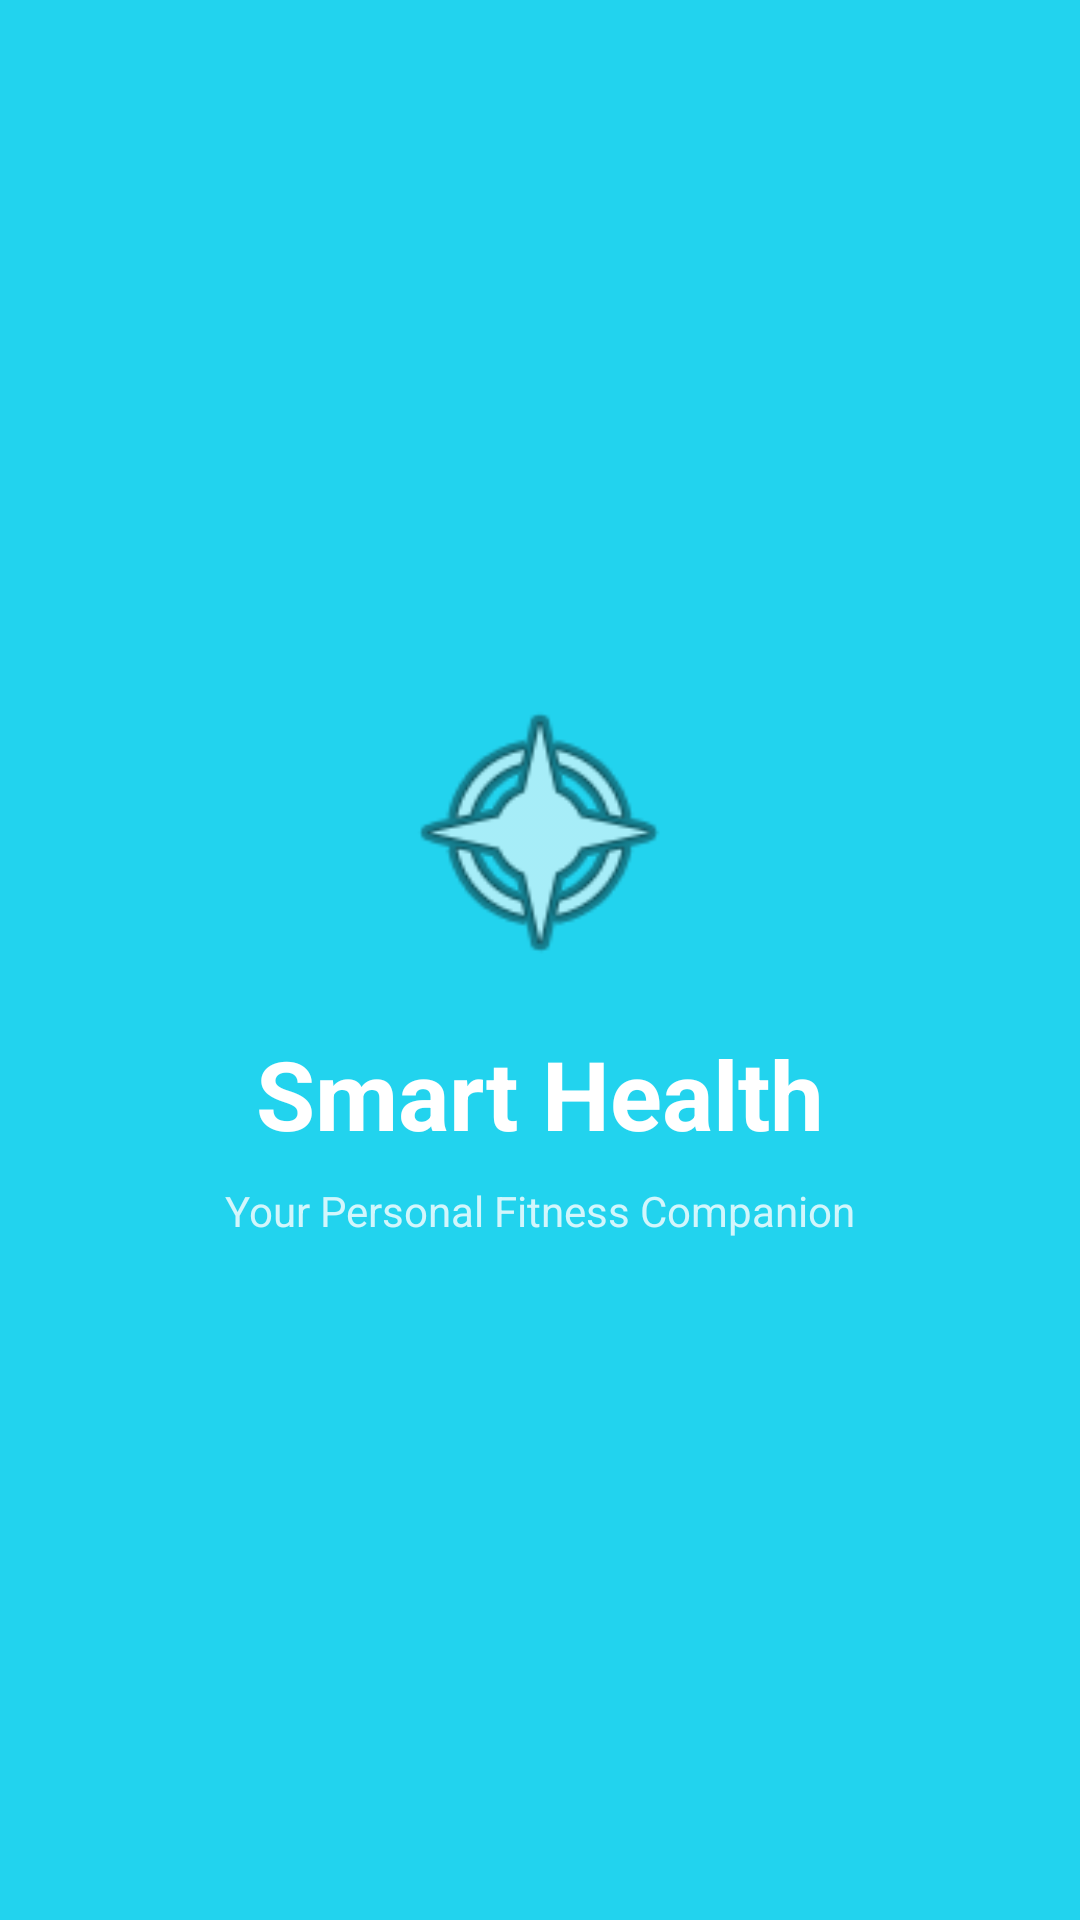

Icon click points for this 1080w x 1920h phone screenshot, format (x=x, y=y):
compass: (x=539, y=832)
